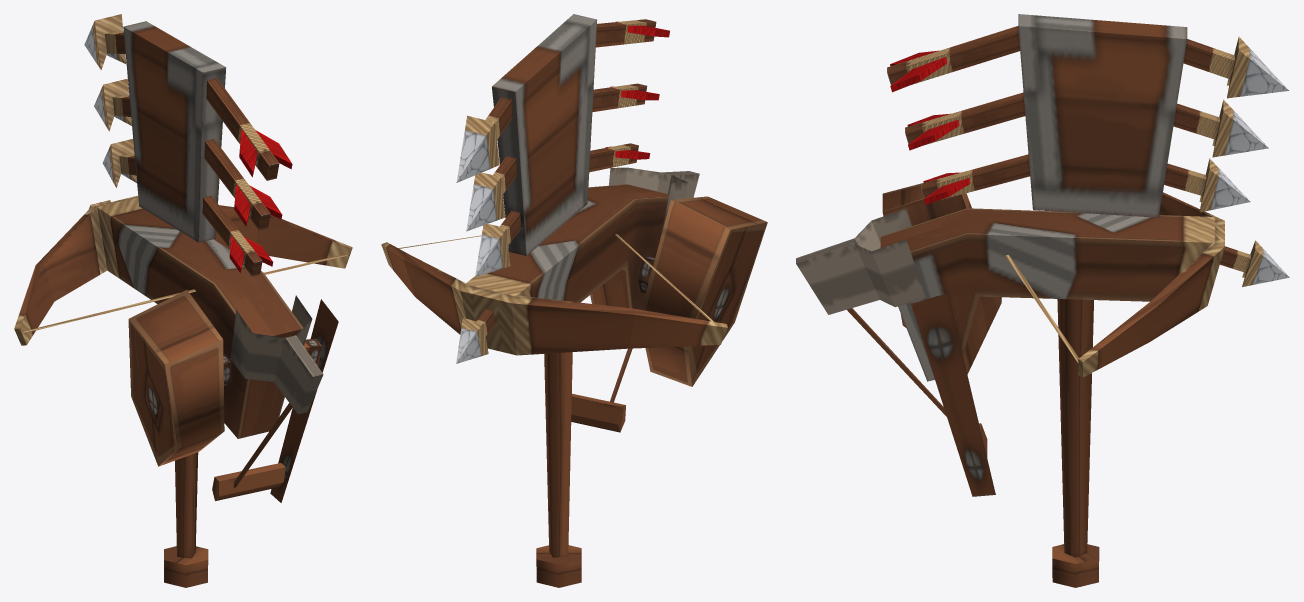
The model's file is crossbow_lvl_3.FBX.
3 views of the same model, side by side, from view 1: azimuth 30°, elevation 25°; view 2: azimuth 150°, elevation 25°; view 3: azimuth 270°, elevation 25° (orthographic). The views are drawn at different scales.
Visible parts, largest first — view 1: crossbow_body005; view 2: crossbow_body005; view 3: crossbow_body005.
Part boxes in pixels (<box>): crossbow_body005: <box>14,14,352,587</box>; crossbow_body005: <box>381,14,767,587</box>; crossbow_body005: <box>796,14,1289,587</box>.
Size of the model in its own units: 190 by 282 by 227.
Materials: 1 (1 with a texture image).
